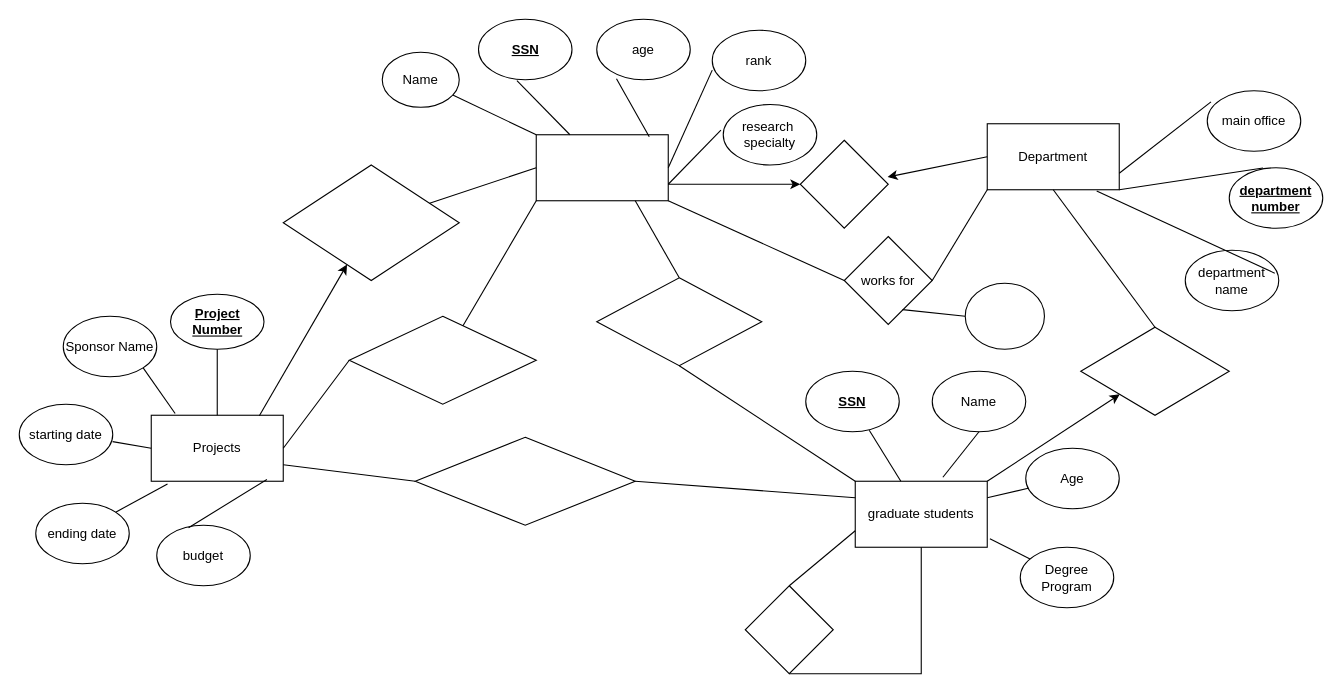
Some shapes in this 1342 by 694 pixel diagram are drawn without their labels. The centre of each missing label's shape, as x and y in pixels:
"Chairman" goes at [843,183].
"Enrolled (work for degree)" goes at [1154,370].
"Manages (Principal Investigator)" goes at [370,222].
"Professor" goes at [601,167].
"Senior Graduate Advisor" goes at [788,629].
"Supervises" goes at [679,321].
"Time Percentage" goes at [1004,315].
"Works On (Co-Investigator)" goes at [442,359].
"Works On (Research Assistant)" goes at [524,480].
